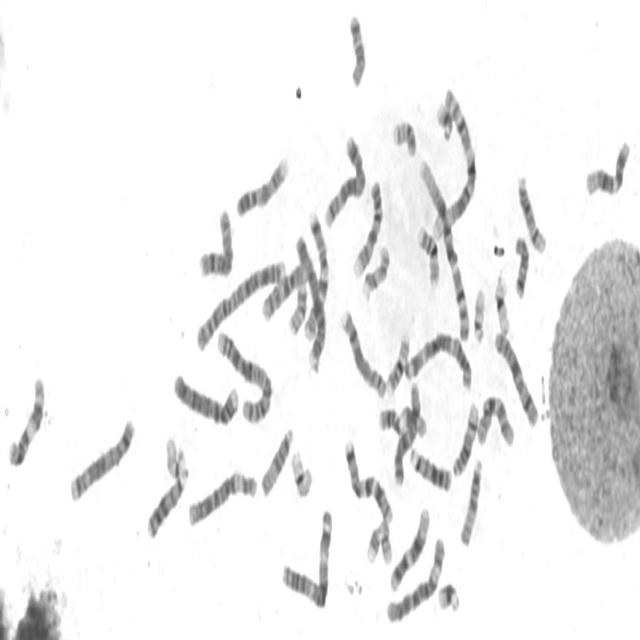A1: (415, 151, 471, 345), (428, 81, 478, 241)
A2: (193, 251, 289, 354), (214, 322, 274, 426)
A3: (278, 502, 334, 612), (402, 324, 474, 392)
B4: (293, 223, 328, 372), (170, 364, 241, 429)
B5: (67, 410, 137, 504), (322, 126, 368, 230)
C10: (260, 256, 310, 324), (474, 387, 516, 451)
C11: (5, 368, 46, 469), (377, 401, 428, 439)
C12: (388, 499, 432, 595), (583, 131, 632, 199)
C6: (383, 529, 448, 626), (185, 464, 259, 530)
C7: (341, 431, 395, 527), (302, 206, 331, 348)
C8: (338, 302, 388, 402), (196, 200, 235, 281)
C9: (233, 148, 290, 219), (350, 172, 385, 280)
D13: (143, 461, 190, 542), (407, 439, 453, 495)
D14: (515, 166, 548, 255), (450, 395, 480, 479)
D15: (258, 419, 294, 499), (458, 452, 484, 549)
E16: (414, 218, 442, 290), (384, 325, 411, 397)
E17: (359, 238, 392, 304), (364, 514, 394, 568)
E18: (346, 6, 368, 89), (511, 226, 532, 302)
F19: (288, 442, 315, 500), (492, 267, 512, 337)
F20: (285, 275, 309, 338), (389, 111, 418, 160)
G21: (435, 574, 462, 616), (433, 92, 455, 142)
G22: (163, 428, 188, 483), (471, 278, 487, 346)
X: (492, 323, 540, 430), (391, 376, 422, 489)
